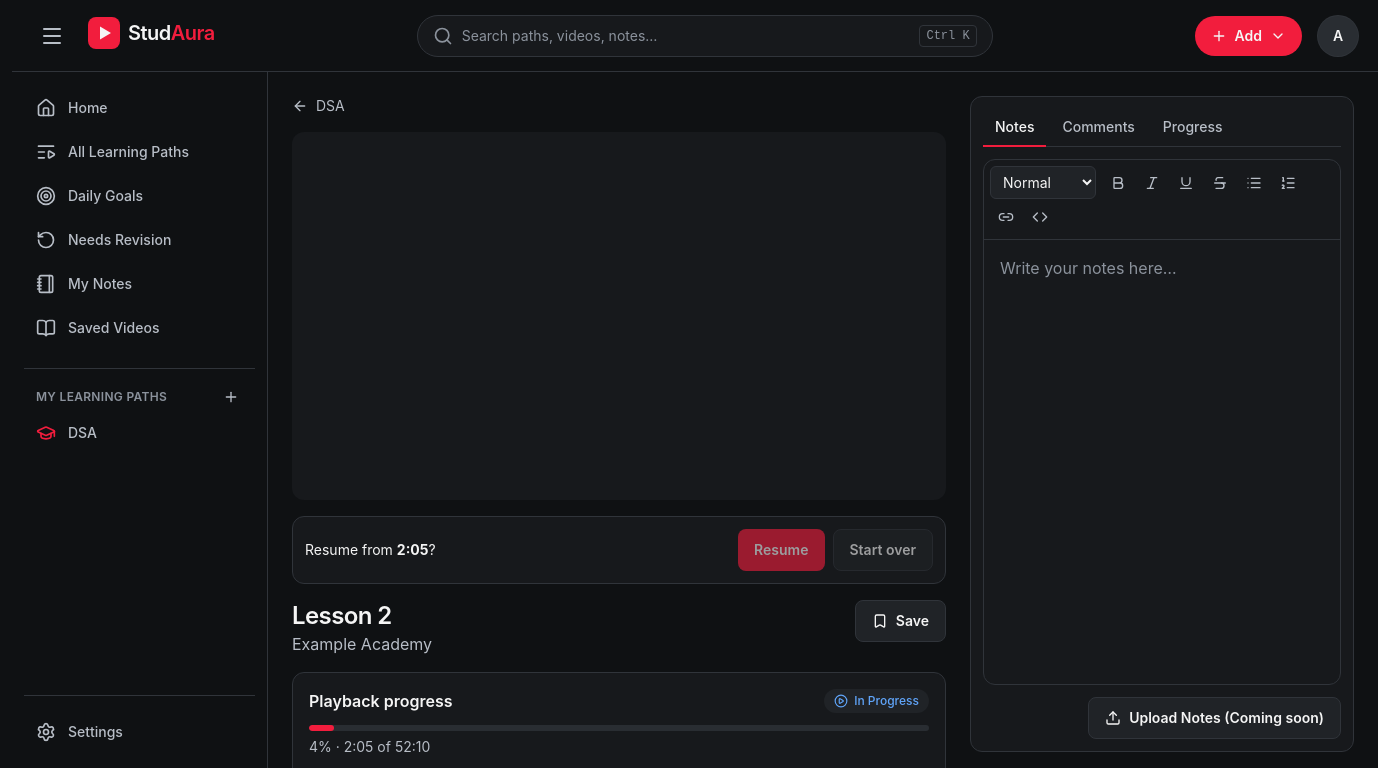
the Progress tab › updates the path totals when the video is marked completed
expect the heading "Lesson 2" is shown: met, box x1=292 y1=601 x2=392 y2=630
Step 1. Click the tab "Progress" → (1193, 128), box x1=1151 y1=109 x2=1235 y2=147
(page scrolled)
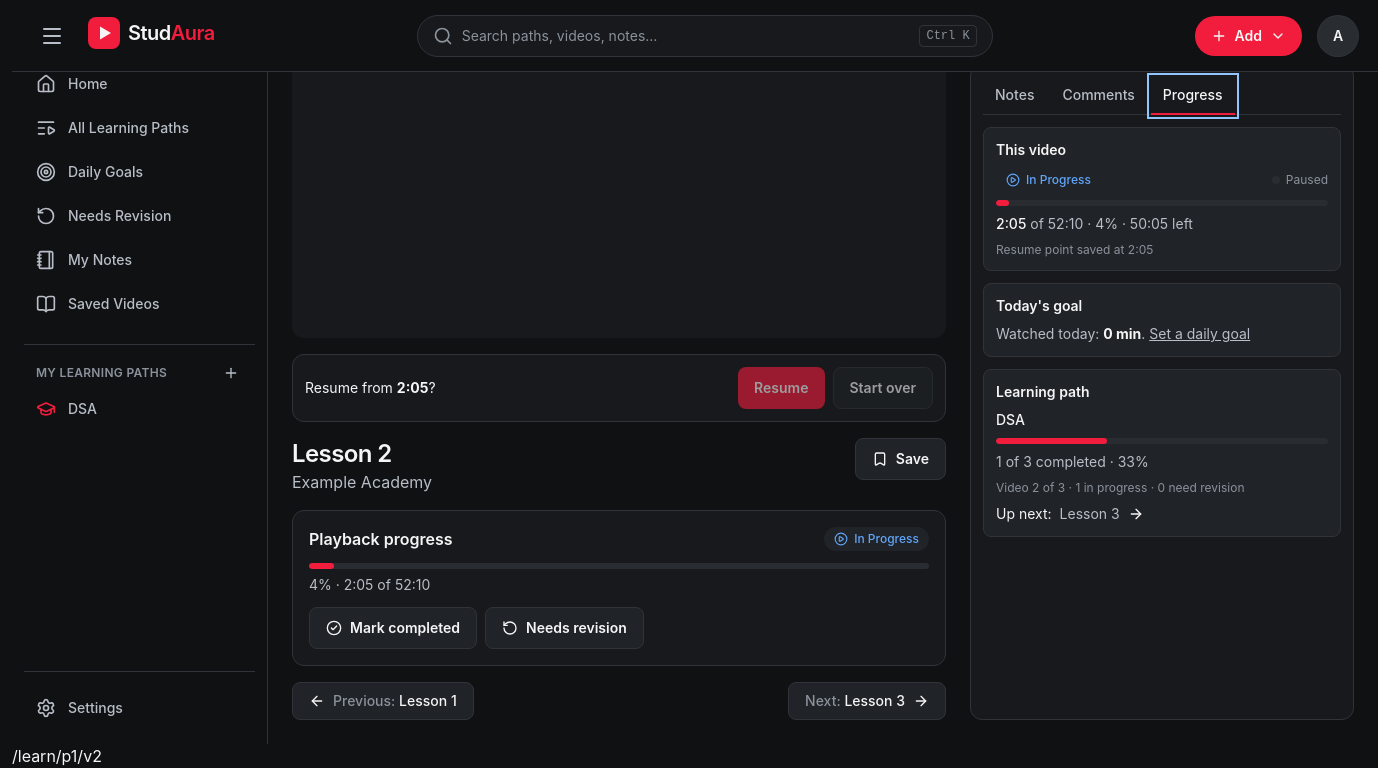
expect the text "1 of 3 completed · 33%" is shown: met, box x1=996 y1=453 x2=1149 y2=470
Step 2. Click the button "Mark completed" → (393, 628), box x1=309 y1=607 x2=477 y2=649
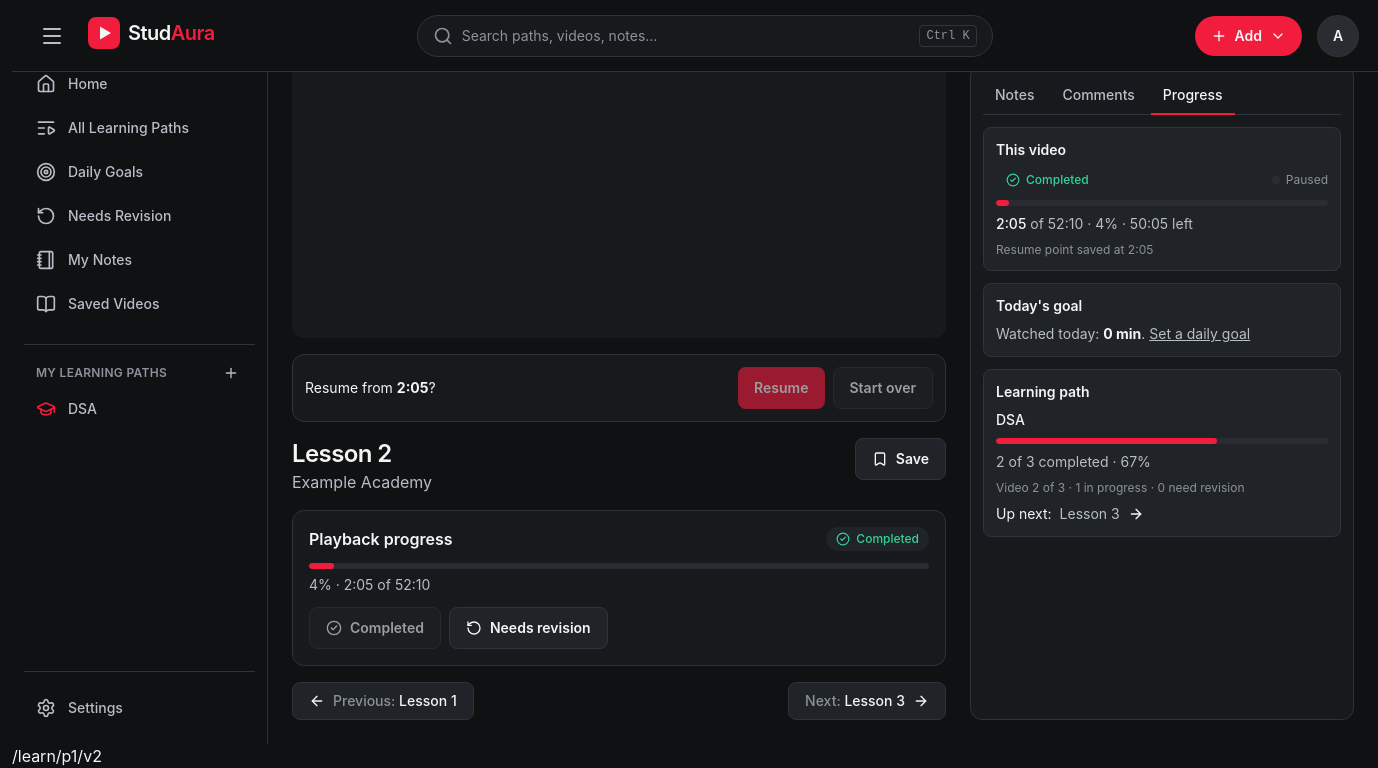
expect the text "2 of 3 completed · 67%" is shown: met, box x1=996 y1=453 x2=1151 y2=470
